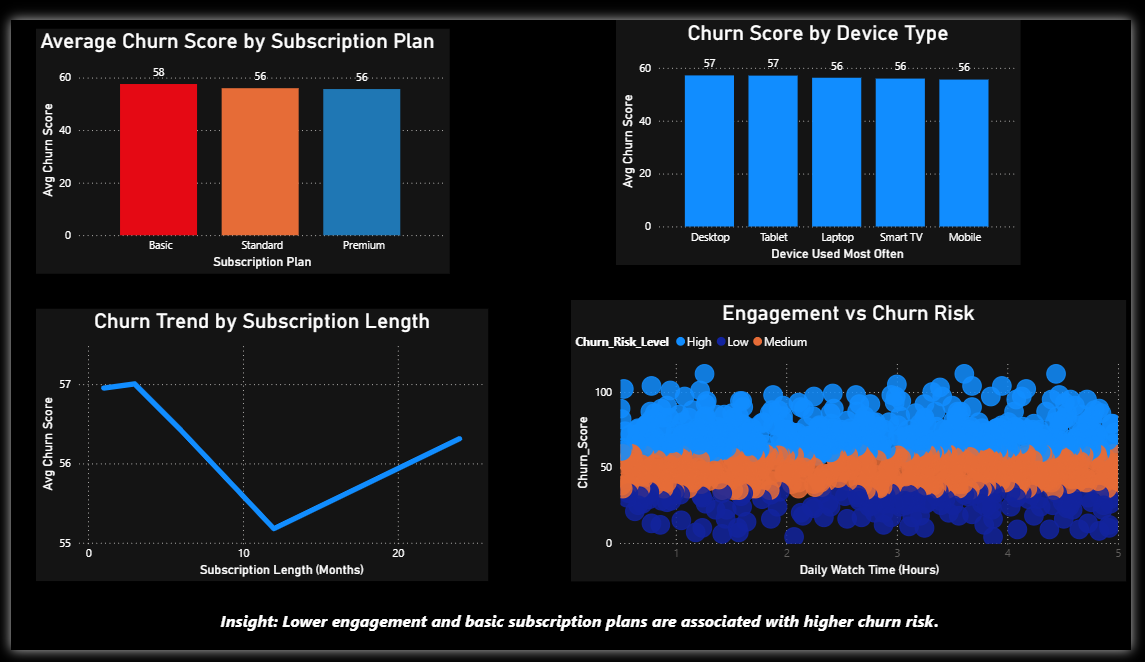

Layout of this report page (visuals, bound fields, positions):
{"tool":"powerbi","page":{"name":"Churn Drivers Analysis","canvas":[1280,720],"ordinal":1},"visuals":[{"type":"clusteredColumnChart","title":"Average Churn Score by Subscription Plan","fields":{"Category":["Sheet1.Subscription Plan"],"Y":["Sheet1.Avg Churn Score"]},"box":[28.6,10,472.9,280],"z":0},{"type":"lineChart","title":"Churn Trend by Subscription Length","fields":{"Category":["Sheet1.Subscription Length (Months)"],"Y":["Sheet1.Avg Churn Score"]},"box":[28.6,330,517.1,311.4],"z":1000},{"type":"columnChart","title":"Churn Score by Device Type","fields":{"Y":["Sheet1.Avg Churn Score"],"Category":["Sheet1.Device Used Most Often"]},"box":[692,0,462,280],"z":2000},{"type":"scatterChart","title":"Engagement vs Churn Risk","fields":{"X":["Sheet1.Daily Watch Time (Hours)"],"Series":["Sheet1.Churn_Risk_Level"],"Y":["Sheet1.Churn_Score"],"Size":["CountNonNull(Sheet1.Churn_Score)"]},"box":[640,320,634.3,321.4],"z":3000},{"type":"textbox","box":[147.1,668.6,1005.7,51.4],"z":3001}]}

Visuals, with their boxes in screenshot pixels (x1, y1, x2, y2), scaled from the page's 1280x720 canvas onto the 1145x662 screenshot:
"Average Churn Score by Subscription Plan" clusteredColumnChart: pyautogui.locateOnScreen(26, 9, 449, 267)
"Churn Trend by Subscription Length" lineChart: pyautogui.locateOnScreen(26, 303, 488, 590)
"Churn Score by Device Type" columnChart: pyautogui.locateOnScreen(619, 0, 1032, 257)
"Engagement vs Churn Risk" scatterChart: pyautogui.locateOnScreen(572, 294, 1140, 590)
textbox: pyautogui.locateOnScreen(132, 615, 1031, 661)
